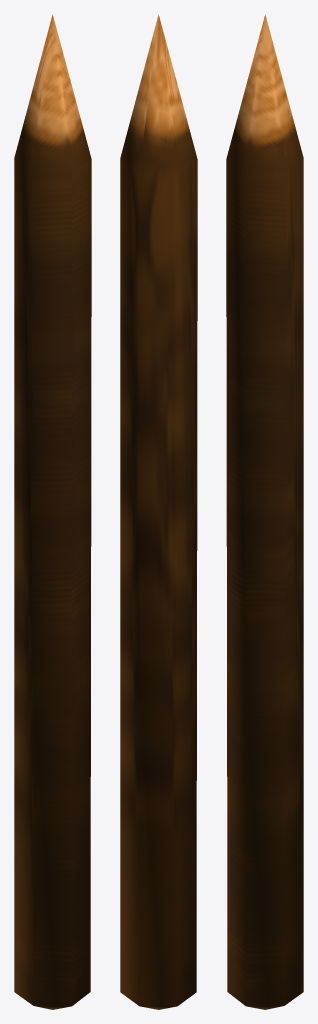
Rendered from Spike.FBX.
3 renders of one model, left to right at view 1: azimuth 30°, elevation 25°; view 2: azimuth 150°, elevation 25°; view 3: azimuth 330°, elevation 25°, orthographic.
Visible parts, largest first — view 1: Group2; view 2: Group2; view 3: Group2.
Part boxes in pixels (left/top/right/bottom): Group2: left=14, top=14, right=91, bottom=1009; Group2: left=120, top=14, right=197, bottom=1009; Group2: left=226, top=14, right=303, bottom=1009.
Bounding box in the file's own units: 0.1229 × 1.98 × 0.1394.
